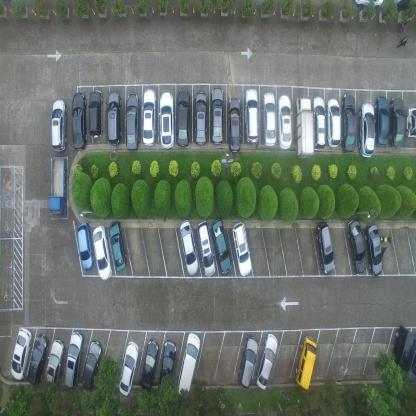car: (176, 331, 200, 398), (255, 332, 278, 391), (391, 326, 415, 382), (295, 335, 318, 391), (26, 332, 49, 387), (64, 330, 85, 390), (178, 220, 200, 277), (210, 218, 232, 274), (44, 337, 66, 392), (10, 326, 32, 381), (231, 220, 252, 277), (118, 339, 139, 396), (347, 217, 367, 276), (92, 225, 113, 281), (296, 95, 314, 159), (196, 219, 216, 276), (49, 157, 68, 217), (314, 221, 335, 274), (238, 335, 258, 390), (82, 338, 103, 390), (139, 338, 159, 392), (157, 339, 176, 395), (364, 221, 383, 276), (340, 92, 356, 154), (50, 98, 68, 152), (359, 101, 375, 159), (77, 221, 95, 272), (108, 221, 126, 272), (243, 87, 259, 144), (209, 86, 224, 146), (176, 89, 191, 149), (159, 91, 174, 151), (125, 91, 140, 151), (72, 92, 87, 150), (390, 95, 406, 149), (374, 95, 390, 148), (193, 91, 208, 147), (107, 90, 122, 146), (277, 94, 292, 150), (326, 97, 342, 148), (227, 96, 241, 154), (142, 88, 156, 146), (311, 95, 325, 151), (262, 91, 276, 147), (89, 89, 103, 139), (406, 105, 416, 140)
